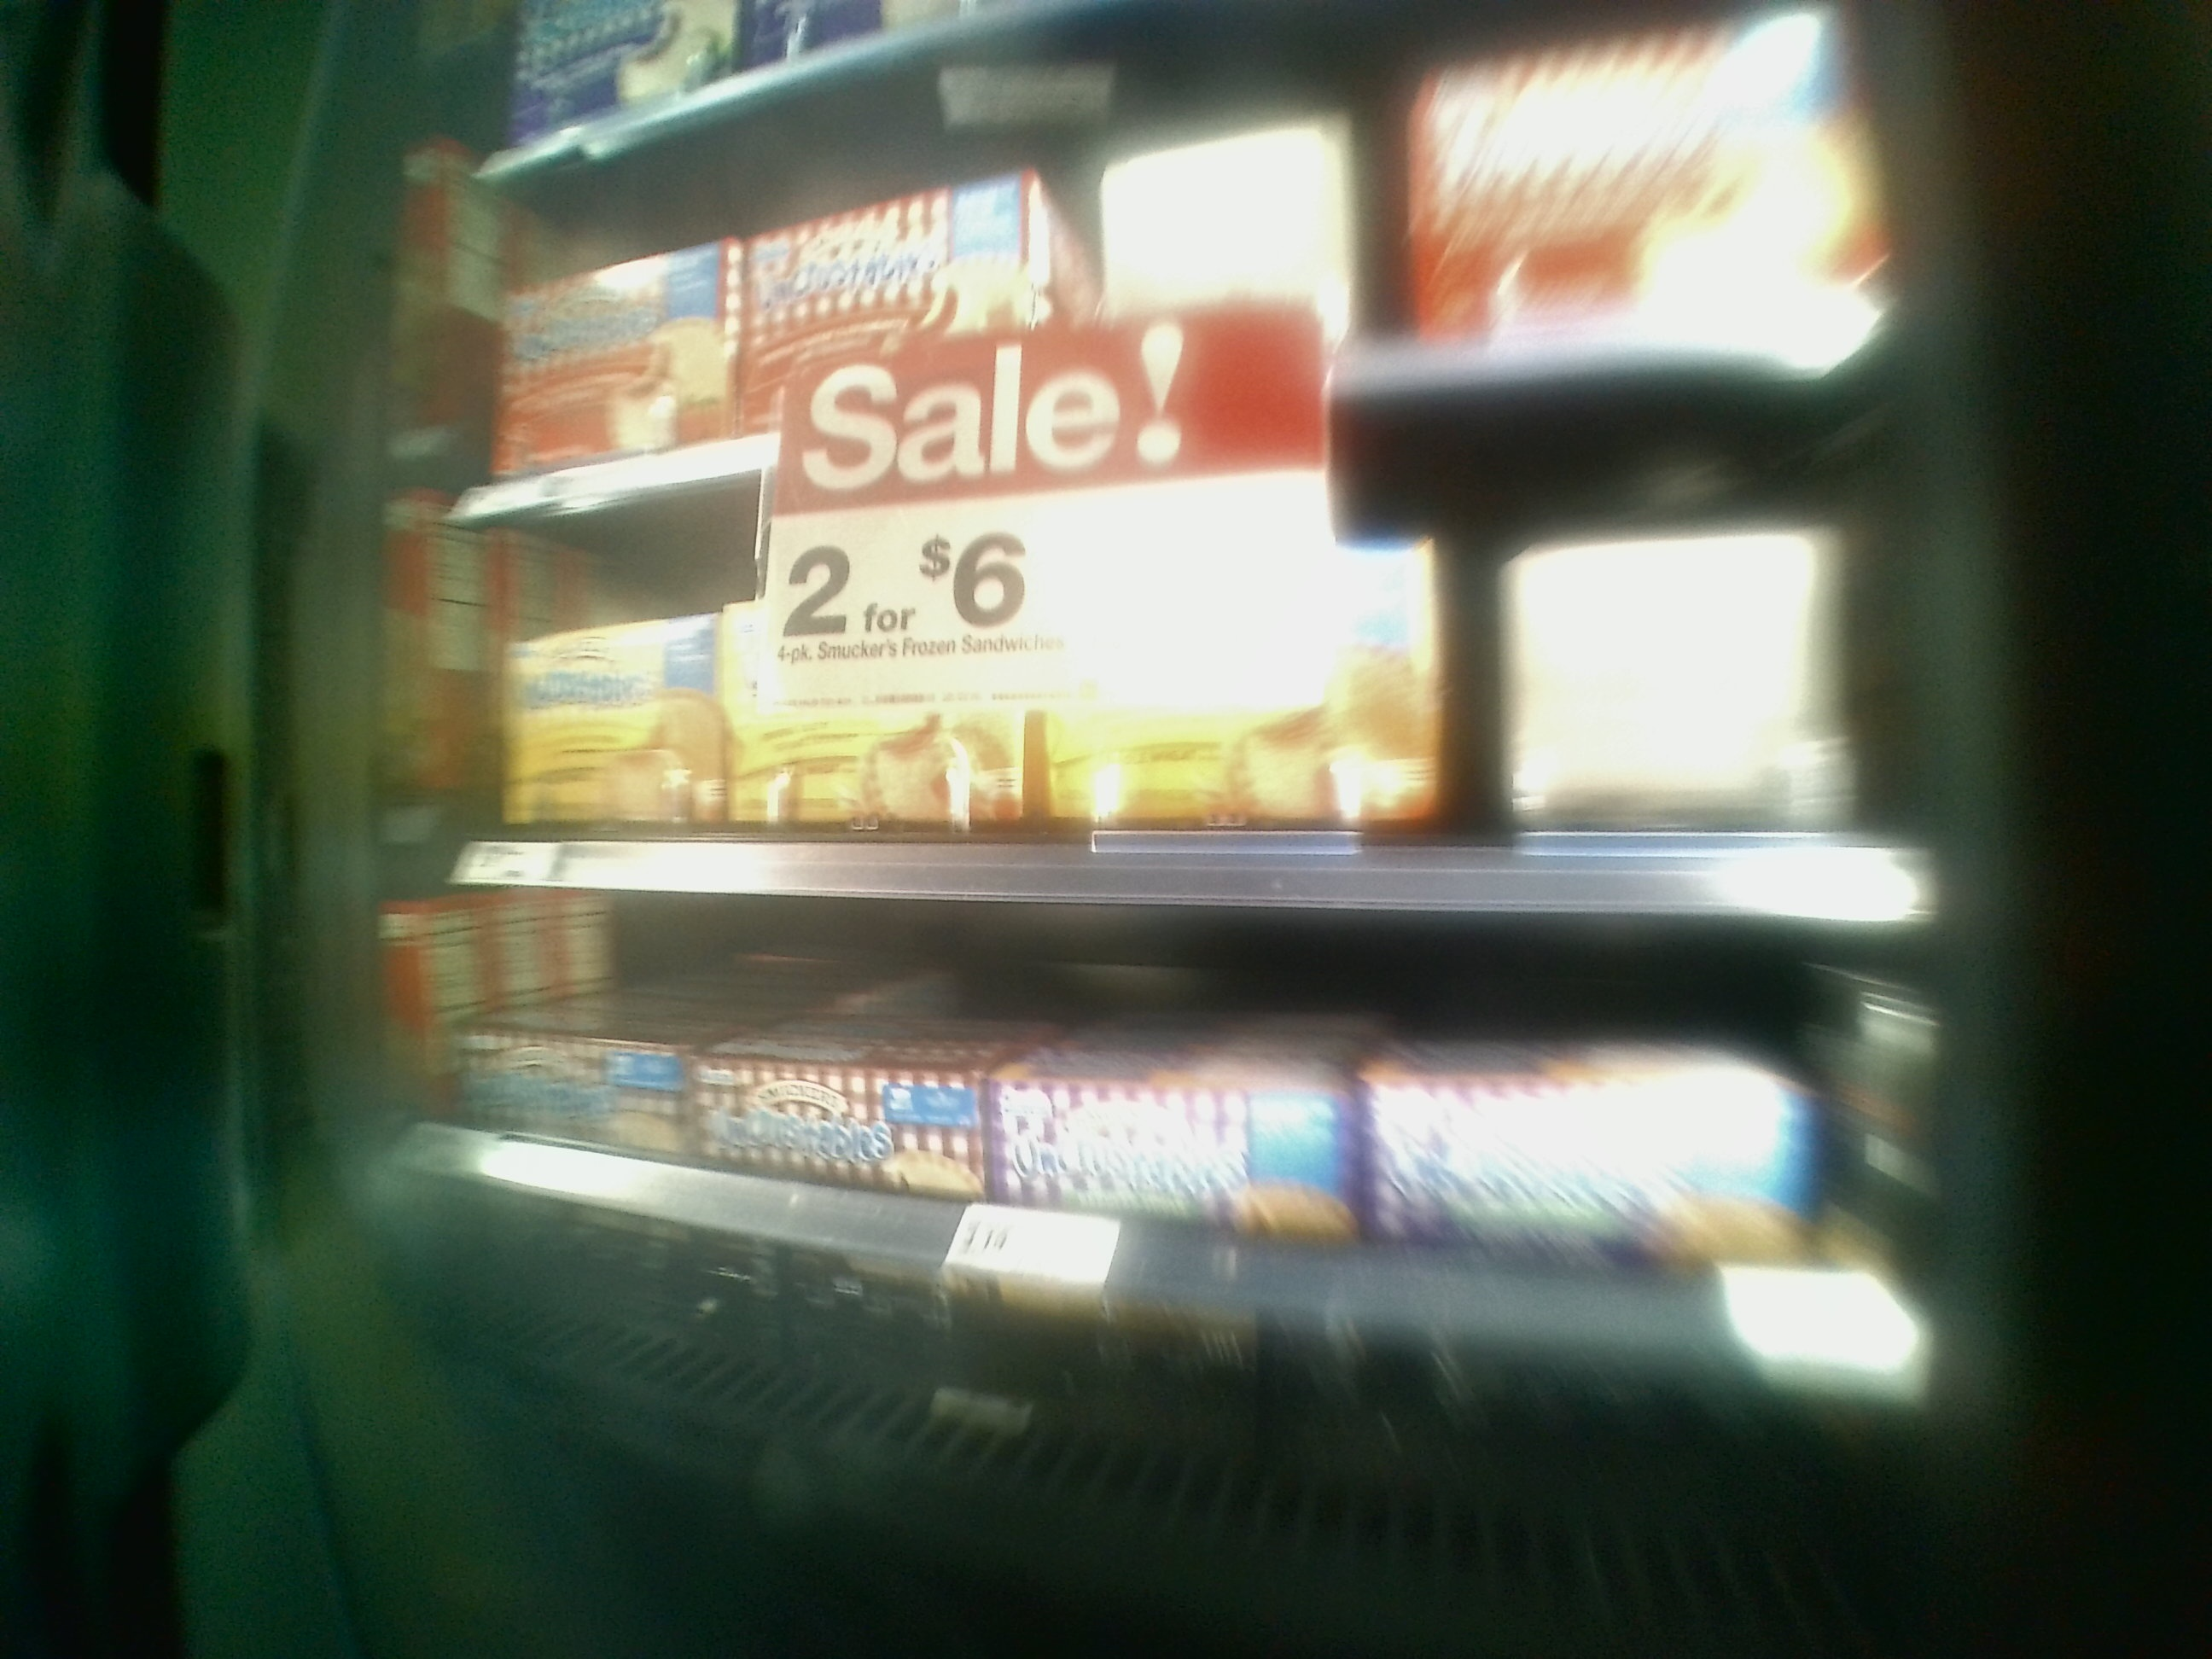shelf: (381, 845, 1928, 1521), (402, 497, 1886, 894)
